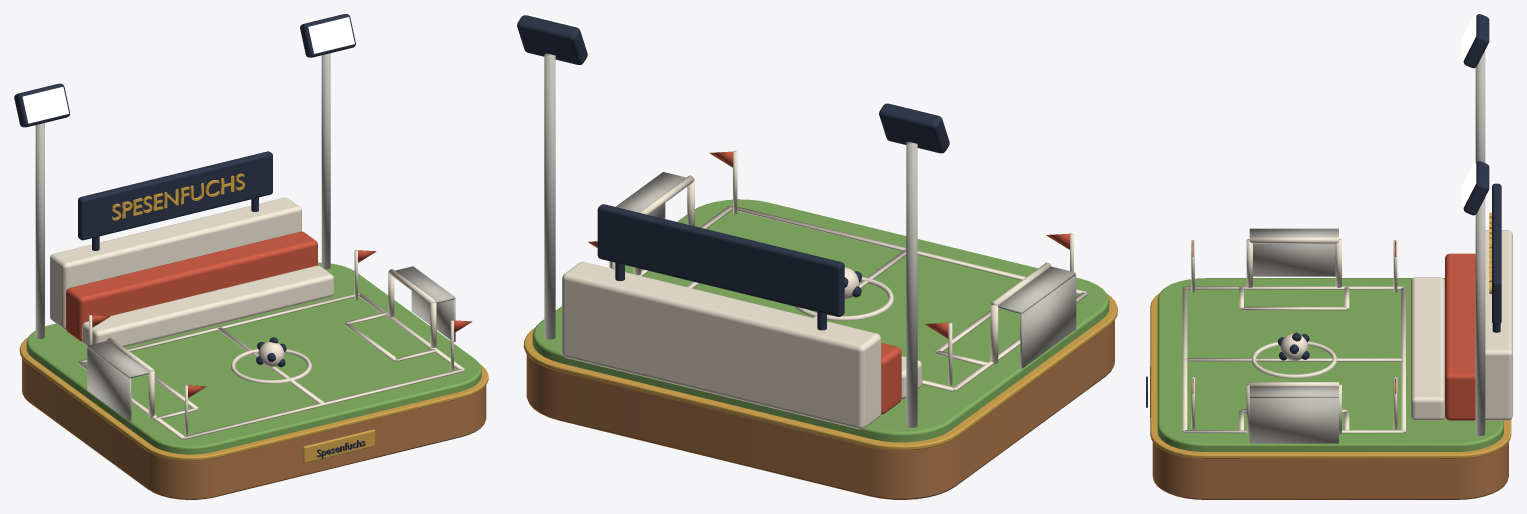
The model's file is spesen.glb.
3 views of the same model, side by side, from view 1: azimuth 30°, elevation 25°; view 2: azimuth 150°, elevation 25°; view 3: azimuth 270°, elevation 25° (orthographic). The views are drawn at different scales.
Visible parts, largest first — view 1: Spesen_Deck, Spesen, Spesen_Step2, Spesen_Step1, Spesen_Step0, Spesen_Board, Spesen_Lines, Spesen_Trim, Spesen_NetW, Spesen_MastE, Spesen_MastW, Spesen_NetE (+10 smaller); view 2: Spesen_Deck, Spesen_Step2, Spesen, Spesen_Board, Spesen_Trim, Spesen_NetW, Spesen_Lines, Spesen_MastE, Spesen_MastW, Spesen_LampW, Spesen_LampE, Spesen_Step1 (+5 smaller); view 3: Spesen_Deck, Spesen, Spesen_Lines, Spesen_NetE, Spesen_Step1, Spesen_Step0, Spesen_Step2, Spesen_Trim, Spesen_NetW, Spesen_MastE, Spesen_Board, Spesen_GoalW (+8 smaller).
Boxes of the visible parts, x1=… form: Spesen_Deck: x1=26, y1=262, x2=481, y2=454; Spesen: x1=22, y1=358, x2=486, y2=499; Spesen_Step2: x1=50, y1=197, x2=301, y2=329; Spesen_Step1: x1=66, y1=231, x2=317, y2=341; Spesen_Step0: x1=82, y1=265, x2=333, y2=347; Spesen_Board: x1=78, y1=151, x2=272, y2=250; Spesen_Lines: x1=78, y1=293, x2=464, y2=439; Spesen_Trim: x1=19, y1=337, x2=488, y2=460; Spesen_NetW: x1=87, y1=341, x2=148, y2=421; Spesen_MastE: x1=321, y1=53, x2=330, y2=269; Spesen_MastW: x1=35, y1=123, x2=44, y2=338; Spesen_NetE: x1=395, y1=266, x2=455, y2=342; Spesen_Deck: x1=532, y1=199, x2=1109, y2=442; Spesen_Step2: x1=562, y1=262, x2=881, y2=429; Spesen: x1=526, y1=320, x2=1114, y2=499; Spesen_Board: x1=597, y1=204, x2=844, y2=330; Spesen_Trim: x1=523, y1=294, x2=1117, y2=450; Spesen_NetW: x1=998, y1=266, x2=1076, y2=368; Spesen_Lines: x1=639, y1=206, x2=1087, y2=391; Spesen_MastE: x1=544, y1=53, x2=555, y2=339; Spesen_MastW: x1=906, y1=141, x2=917, y2=427; Spesen_LampW: x1=879, y1=103, x2=949, y2=153; Spesen_LampE: x1=517, y1=15, x2=587, y2=64; Spesen_Step1: x1=881, y1=343, x2=901, y2=414; Spesen_Deck: x1=1157, y1=278, x2=1503, y2=451; Spesen: x1=1152, y1=442, x2=1508, y2=499; Spesen_Lines: x1=1182, y1=286, x2=1405, y2=433; Spesen_NetE: x1=1249, y1=386, x2=1338, y2=443; Spesen_Step1: x1=1445, y1=253, x2=1475, y2=420; Spesen_Step0: x1=1411, y1=277, x2=1444, y2=420; Spesen_Step2: x1=1485, y1=230, x2=1512, y2=420; Spesen_Trim: x1=1150, y1=293, x2=1511, y2=458; Spesen_NetW: x1=1249, y1=228, x2=1338, y2=276; Spesen_MastE: x1=1475, y1=198, x2=1485, y2=435; Spesen_Board: x1=1492, y1=183, x2=1501, y2=332; Spesen_GoalW: x1=1246, y1=237, x2=1341, y2=287.
Bounding box in the file's own units: 5.06 × 4.33 × 4.53.
